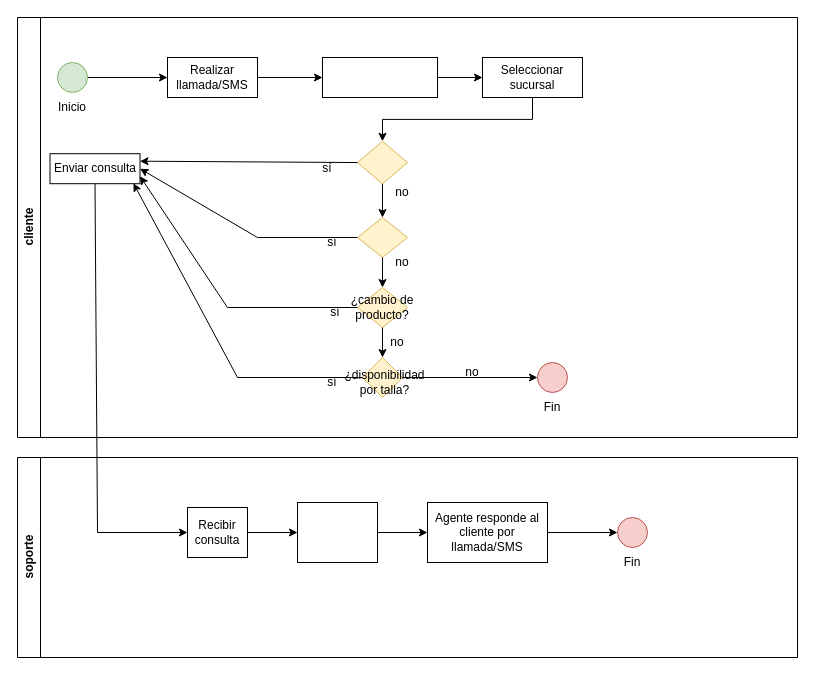
This 815x675 diagram has some shape labels left out. Here are the shapes that lost their labels. From the top down, the centre of each, then its label:
At point (380, 77): "Escoger tipo de consulta".
At point (382, 162): "¿envío?".
At point (382, 237): "¿consulta de medio de pago?".
At point (337, 532): "Revisar tipo de consulta".
